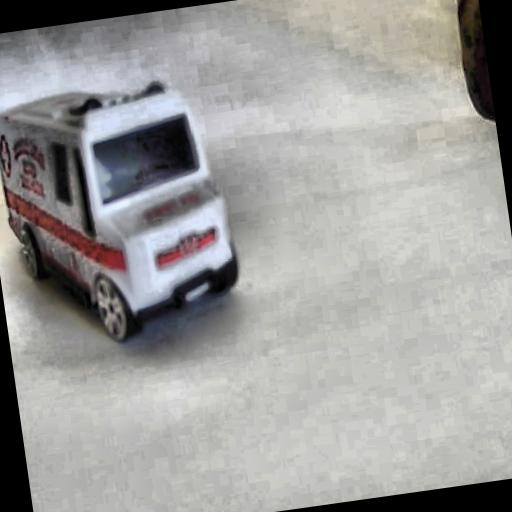ambulance: (0, 70, 246, 355)
